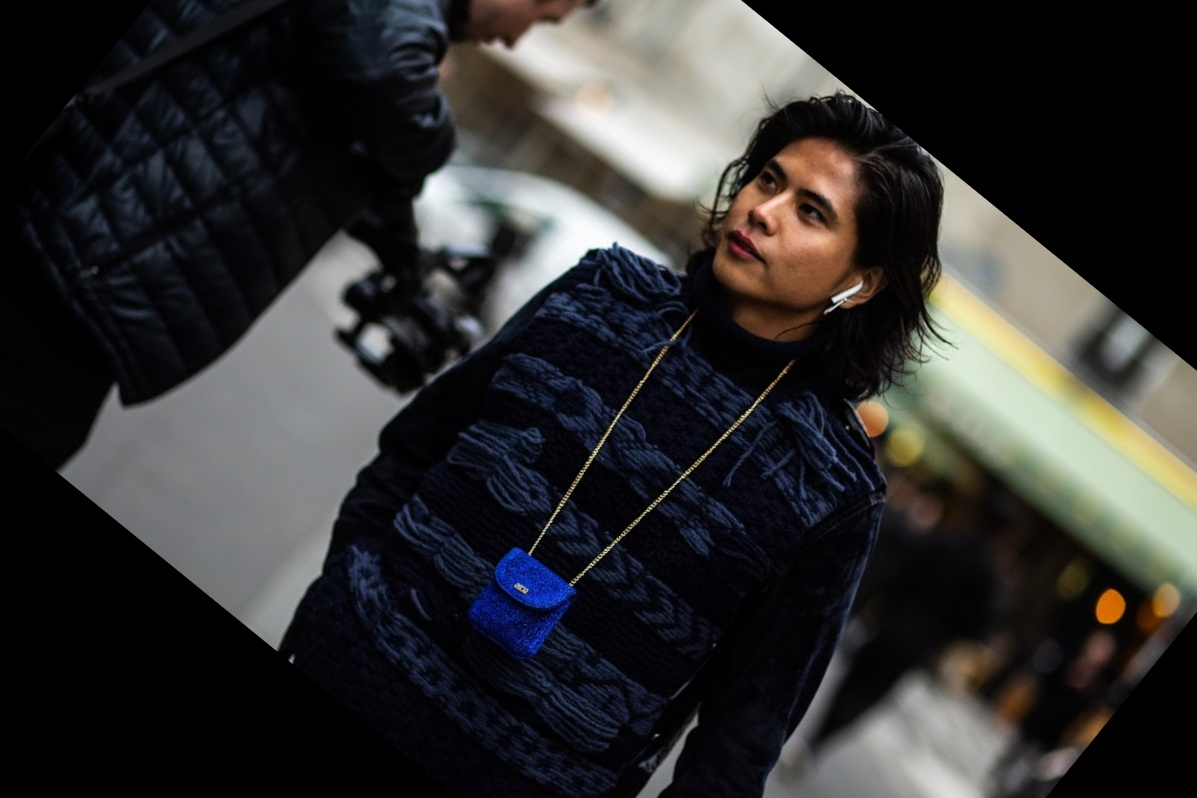earphone: (824, 251, 893, 323)
